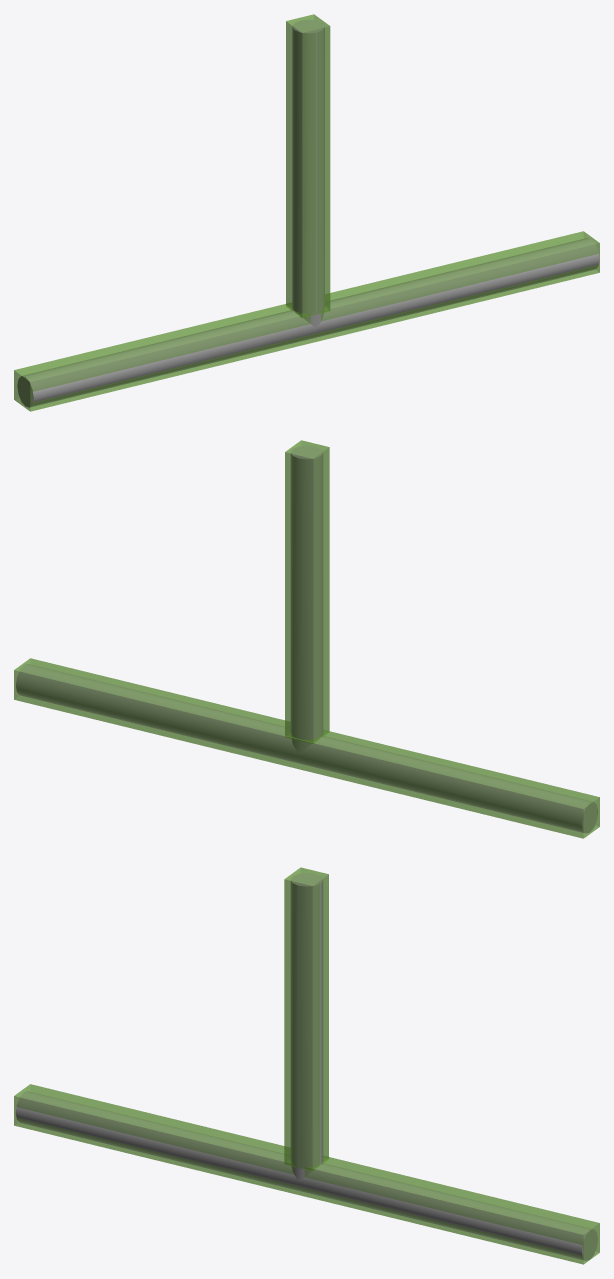
The model's file is M_md_StallBeam1_50cm_04.fbx.
The picture shows the model from 3 angles, top to bottom: view 1: azimuth 30°, elevation 25°; view 2: azimuth 150°, elevation 25°; view 3: azimuth 330°, elevation 25°; orthographic projection.
Parts seen in each view (by area): view 1: M_md_StallBeam1_50cm_04_LOD0, M_md_StallBeam1_50cm_04_col_02, M_md_StallBeam1_50cm_04_col_01; view 2: M_md_StallBeam1_50cm_04_LOD0, M_md_StallBeam1_50cm_04_col_02, M_md_StallBeam1_50cm_04_col_01; view 3: M_md_StallBeam1_50cm_04_LOD0, M_md_StallBeam1_50cm_04_col_02, M_md_StallBeam1_50cm_04_col_01.
Part boxes in pixels (left/top/right/bottom): M_md_StallBeam1_50cm_04_LOD0: left=17, top=19, right=599, bottom=407; M_md_StallBeam1_50cm_04_col_02: left=14, top=231, right=599, bottom=411; M_md_StallBeam1_50cm_04_col_01: left=286, top=14, right=330, bottom=318; M_md_StallBeam1_50cm_04_LOD0: left=16, top=445, right=597, bottom=833; M_md_StallBeam1_50cm_04_col_02: left=14, top=658, right=599, bottom=838; M_md_StallBeam1_50cm_04_col_01: left=285, top=440, right=329, bottom=743; M_md_StallBeam1_50cm_04_LOD0: left=15, top=873, right=597, bottom=1260; M_md_StallBeam1_50cm_04_col_02: left=14, top=1084, right=599, bottom=1264; M_md_StallBeam1_50cm_04_col_01: left=284, top=867, right=328, bottom=1171.
Size of what is drawn, in the model's own units: 101 by 53 by 5.24.
